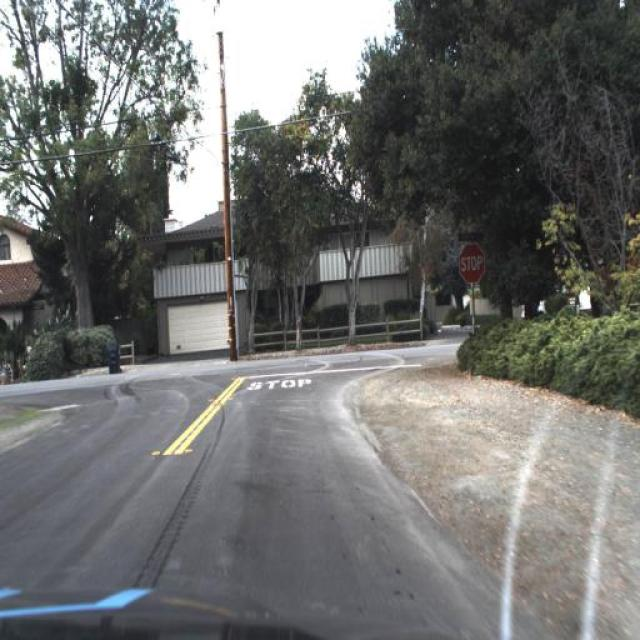car: (520, 292, 546, 322)
